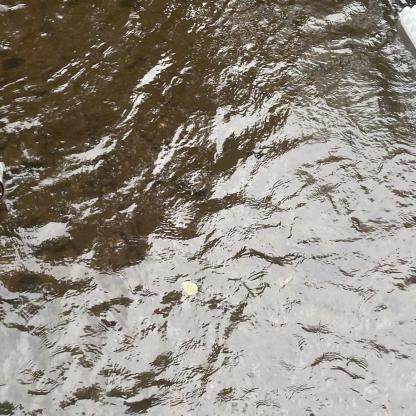Plastic: (395, 3, 416, 55)
